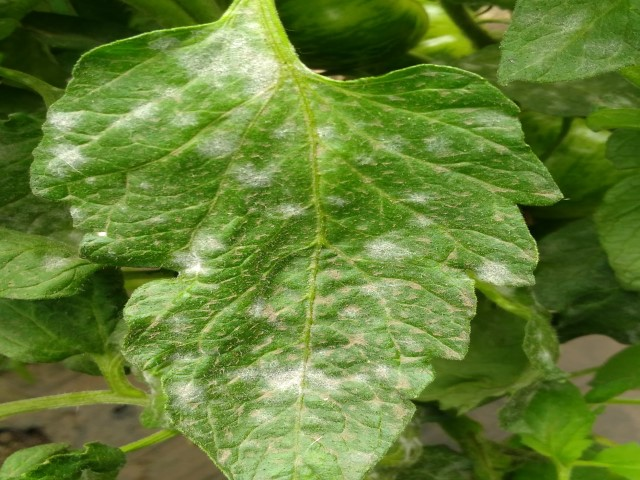blanca: (189, 35, 281, 96), (242, 359, 350, 394), (178, 227, 225, 279), (197, 117, 246, 155), (239, 158, 287, 192), (365, 233, 407, 269), (353, 355, 392, 392), (397, 181, 438, 216), (48, 144, 88, 179), (46, 110, 93, 139), (127, 95, 160, 134), (245, 294, 274, 328), (177, 380, 207, 410), (171, 108, 201, 136), (482, 261, 519, 283), (316, 123, 343, 151)
